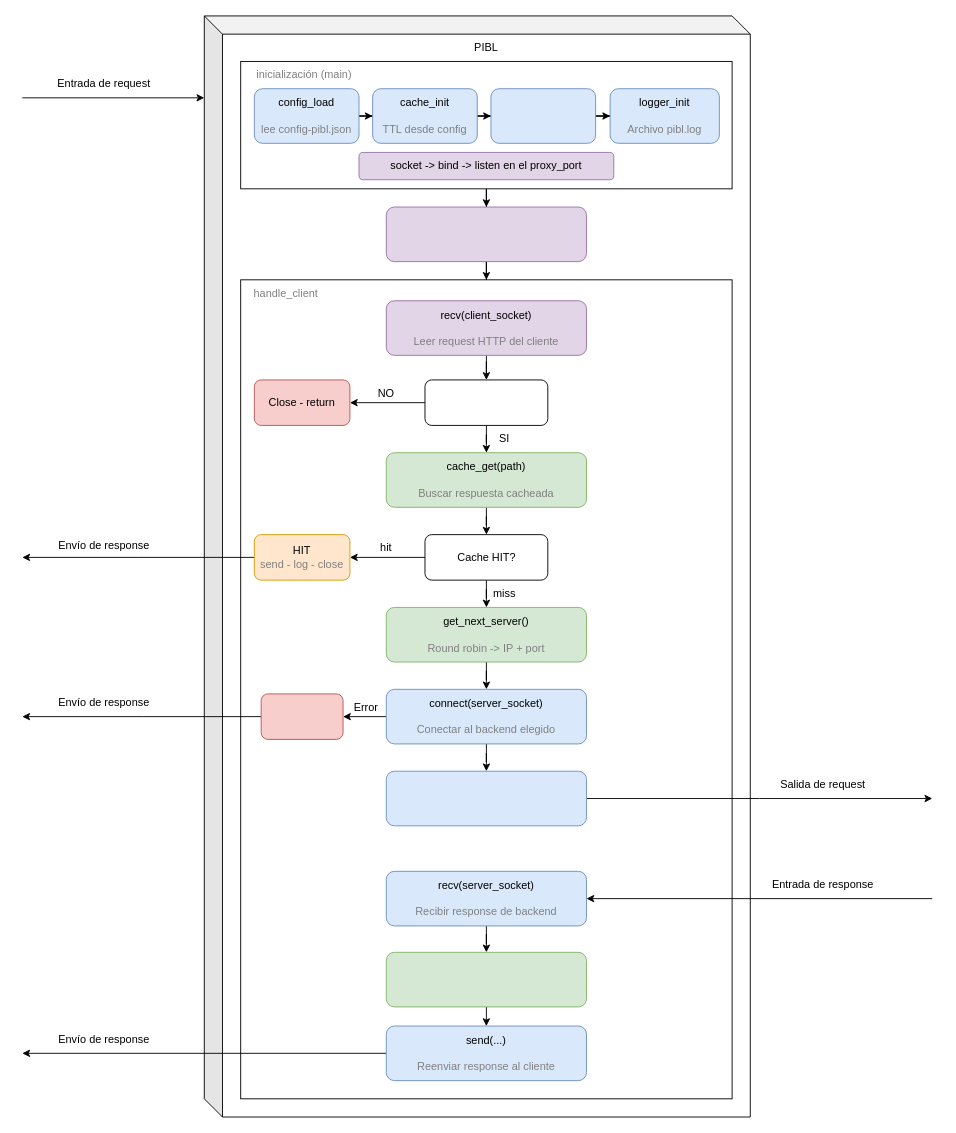
This 956x1133 diagram has some shape labels left out. Each missing label, with the centre of its shape:
502 Bad Gateway: point (301, 716)
accept() -- cliente nuevo Cada request es tomada por un hilo: point (485, 234)
bytes > 0 ?: point (486, 402)
lb_init Lista de servidores: point (543, 115)
log_transaction() - cache_set() Guardar response y registrarla: point (485, 979)
send(...) Reenviar al backend la request: point (485, 798)
